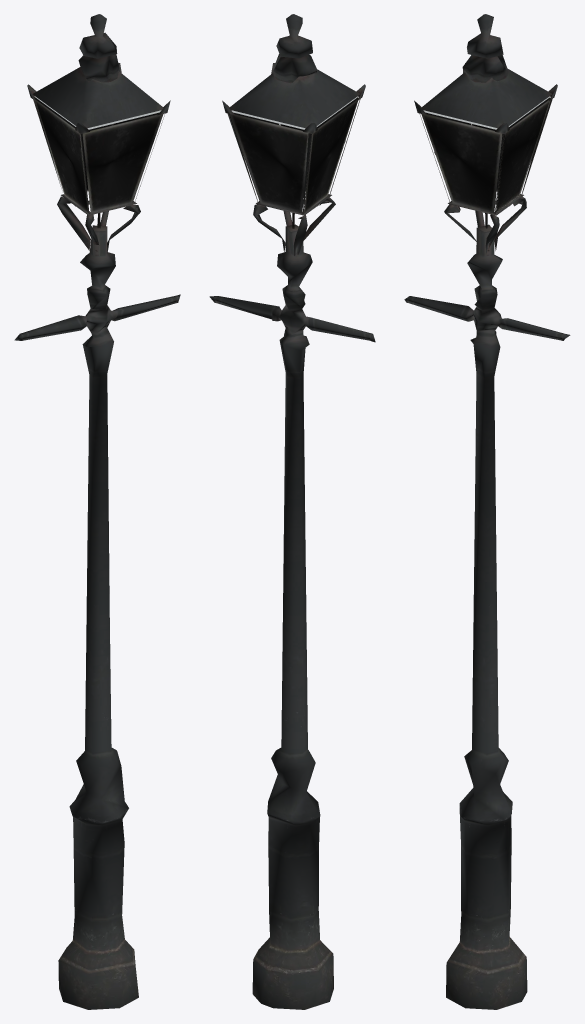
The model's file is street_lamp_01.gltf.
3 views of the same model, side by side, from view 1: azimuth 30°, elevation 25°; view 2: azimuth 150°, elevation 25°; view 3: azimuth 330°, elevation 25° (orthographic).
Visible parts, largest first — view 1: street_lamp_01; view 2: street_lamp_01; view 3: street_lamp_01.
Boxes of the visible parts, bbox=[...] form: street_lamp_01: bbox=[14, 14, 180, 1009]; street_lamp_01: bbox=[209, 14, 375, 1009]; street_lamp_01: bbox=[404, 14, 570, 1009].
Bounding box in the file's own units: 0.6892 × 3.87 × 0.3844.
Materials: 2 (2 with a texture image).
